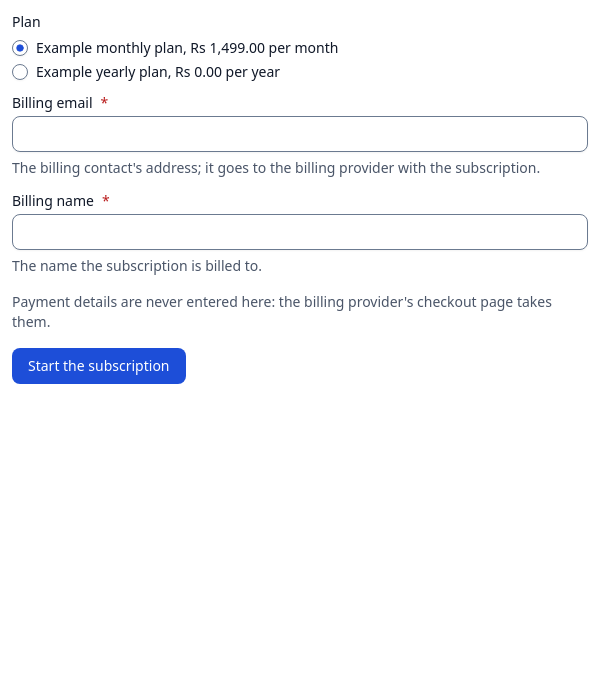
Test: SubscribeForm › shows another problem as an error, field errors on their fields, and form errors
Click the radio button named "Example yearly plan" next to "Example yearly plan, Rs 0.00 per year" at {"x": 20, "y": 72}, box [12, 64, 28, 80]
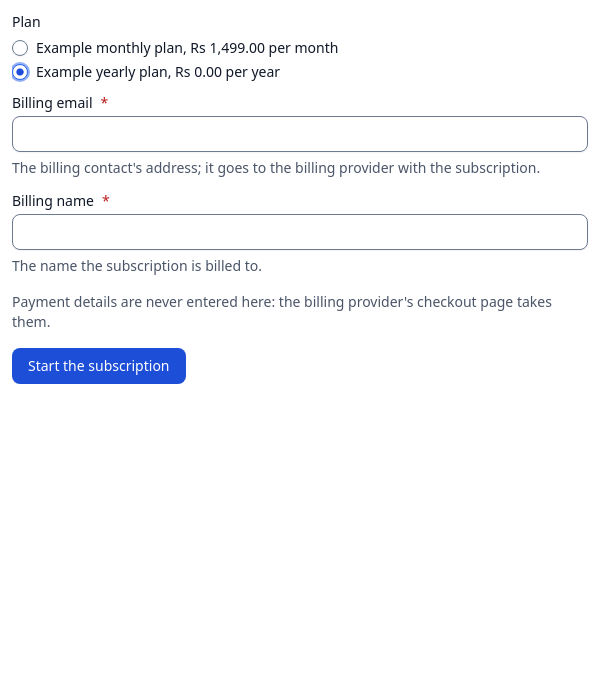
Type "owner@example.com" into the field labelled "Billing email *" at {"x": 300, "y": 134}, box [12, 116, 588, 152]
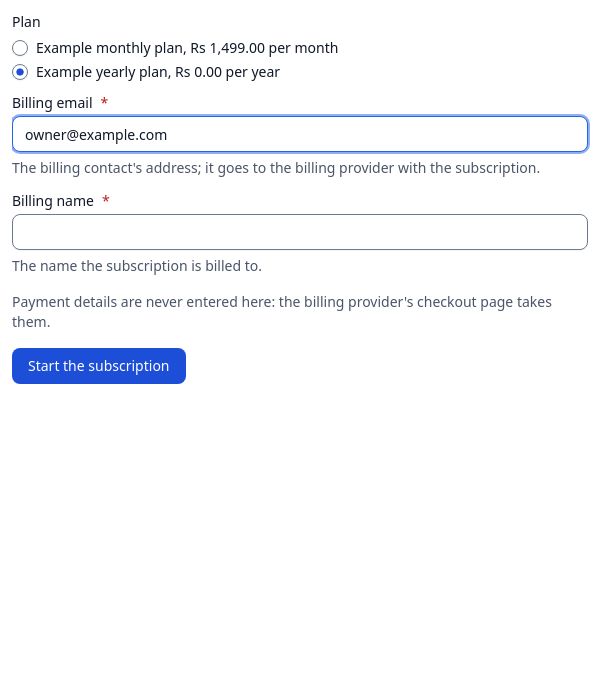
Type "Example Traders" into the field labelled "Billing name *" at {"x": 300, "y": 232}, box [12, 214, 588, 250]
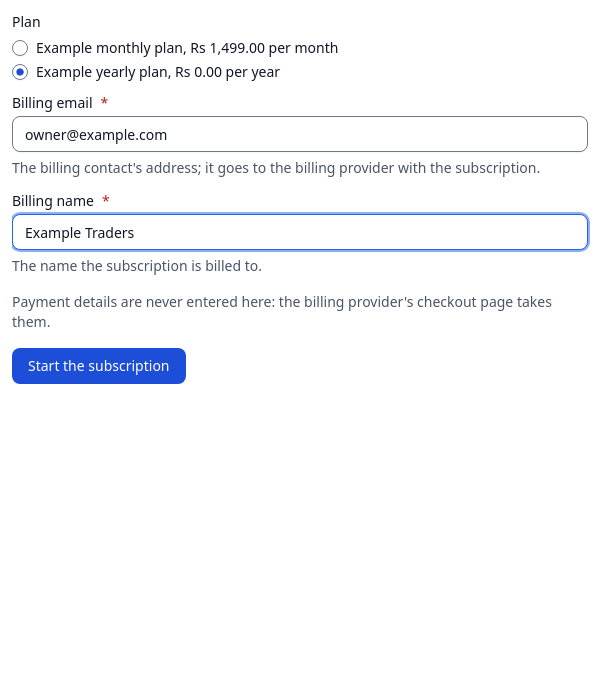
Click the button "Start the subscription" at {"x": 99, "y": 366}, box [12, 348, 186, 384]
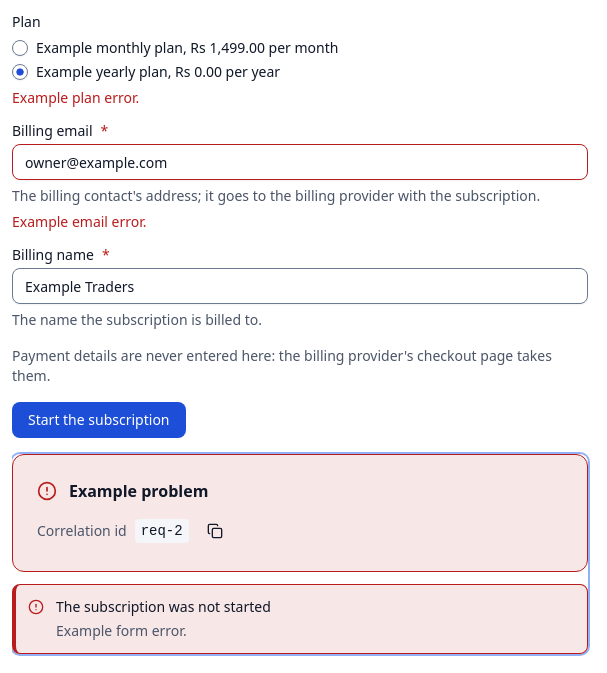
Expected: the text "Example problem" is shown, [69, 480, 208, 502]
Expected: the text "Example plan error." is shown, [12, 88, 139, 107]
Expected: the text "Example email error." is shown, [12, 212, 146, 231]
